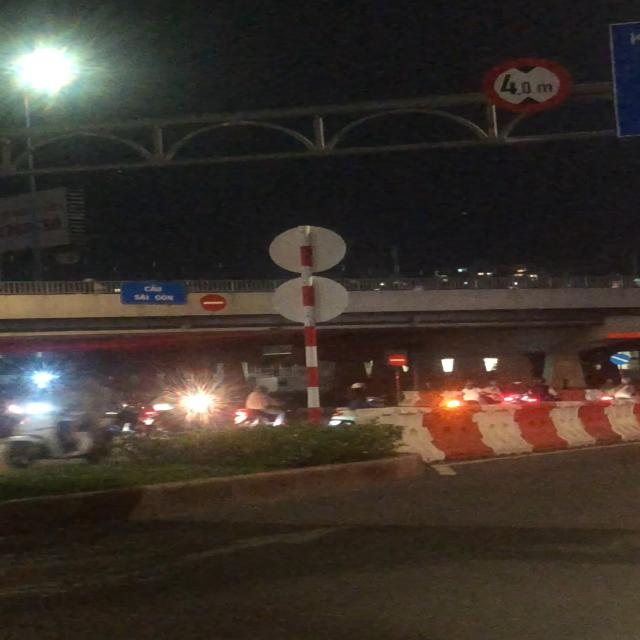Bien bao cam di nguoc chieu: (196, 292, 230, 312), (386, 352, 408, 367)
Bien bao huong phai di vong chuong ngai vat: (610, 352, 632, 367)
